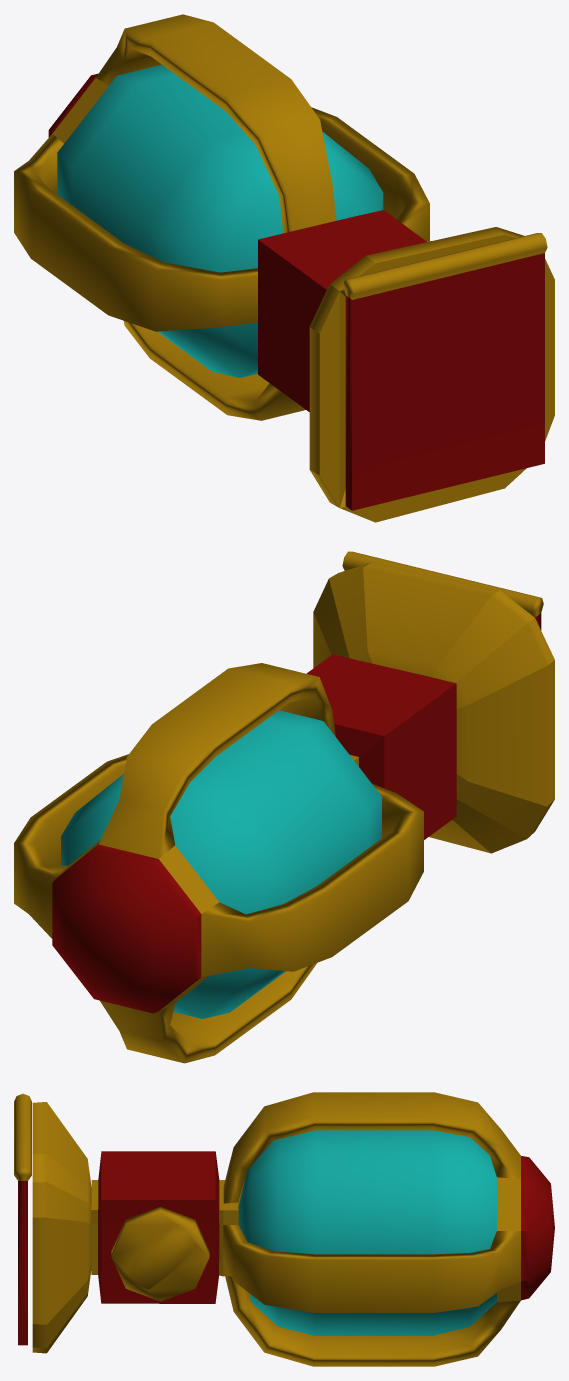
Rendered from DiceLauncher.fbx.
The picture shows the model from 3 angles, top to bottom: view 1: azimuth 30°, elevation 25°; view 2: azimuth 150°, elevation 25°; view 3: azimuth 270°, elevation 25°; orthographic projection. The views are drawn at different scales.
Visible parts, largest first — view 1: Mesh_Dice_Launcher; view 2: Mesh_Dice_Launcher; view 3: Mesh_Dice_Launcher.
Part boxes in pixels (x1=…): Mesh_Dice_Launcher: x1=14, y1=14, x2=554, y2=522; Mesh_Dice_Launcher: x1=14, y1=551, x2=554, y2=1063; Mesh_Dice_Launcher: x1=14, y1=1092, x2=554, y2=1366.
Bounding box in the file's own units: 50.04 × 50.04 × 98.13.
